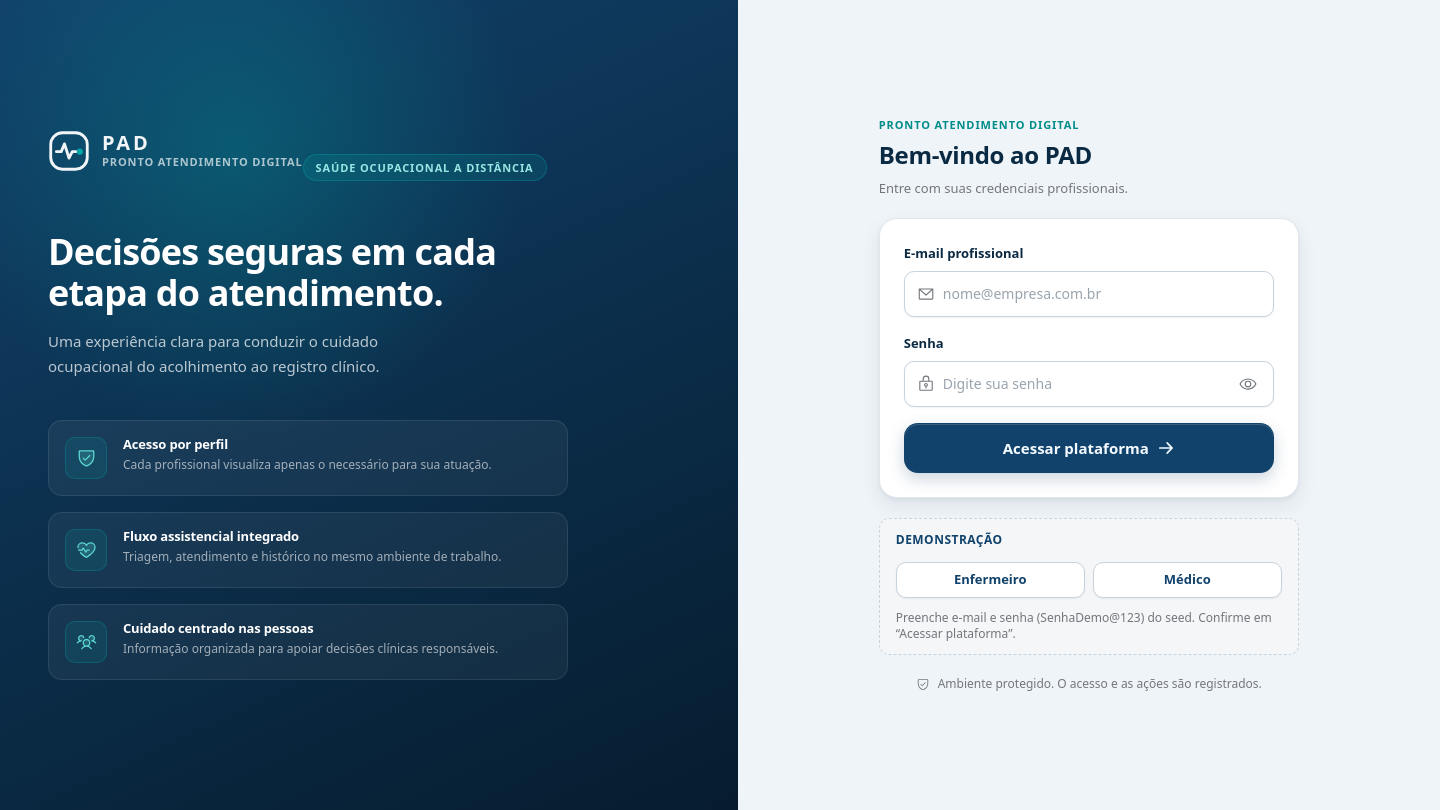
Scenario: LoginPage › preenche credenciais de demonstração para enfermeiro e médico
Click the button with aria-label "Preencher conta demo de enfermeiro".
click(990, 580)  # box x1=896 y1=562 x2=1085 y2=598
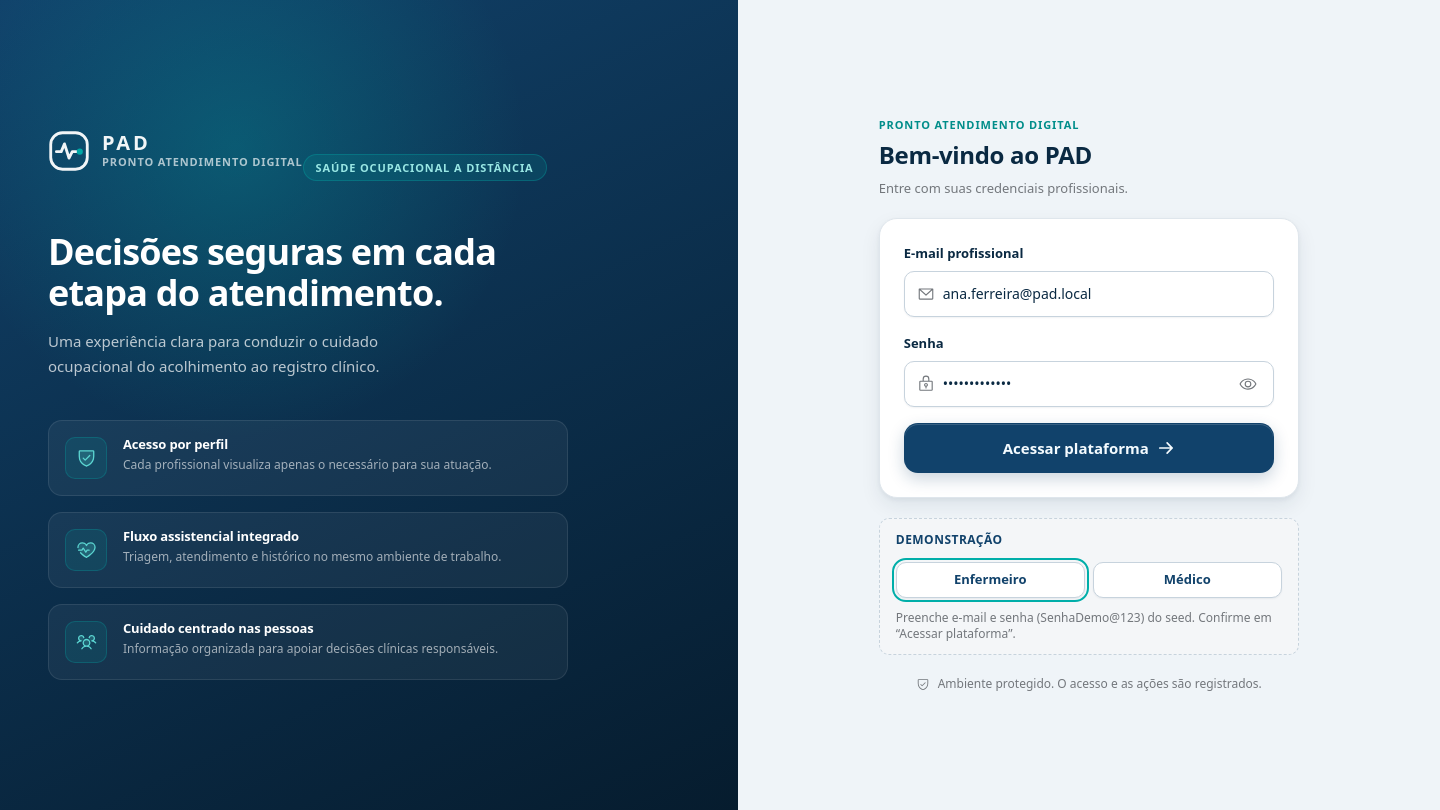
Check: the field labelled "E-mail profissional" holds "ana.ferreira@pad.local", box x1=943 y1=272 x2=1261 y2=316
Check: the password field labelled "Senha" holds "SenhaDemo@123", box x1=943 y1=362 x2=1227 y2=406
Click the button with aria-label "Preencher conta demo de médico".
click(1187, 580)  # box x1=1093 y1=562 x2=1282 y2=598
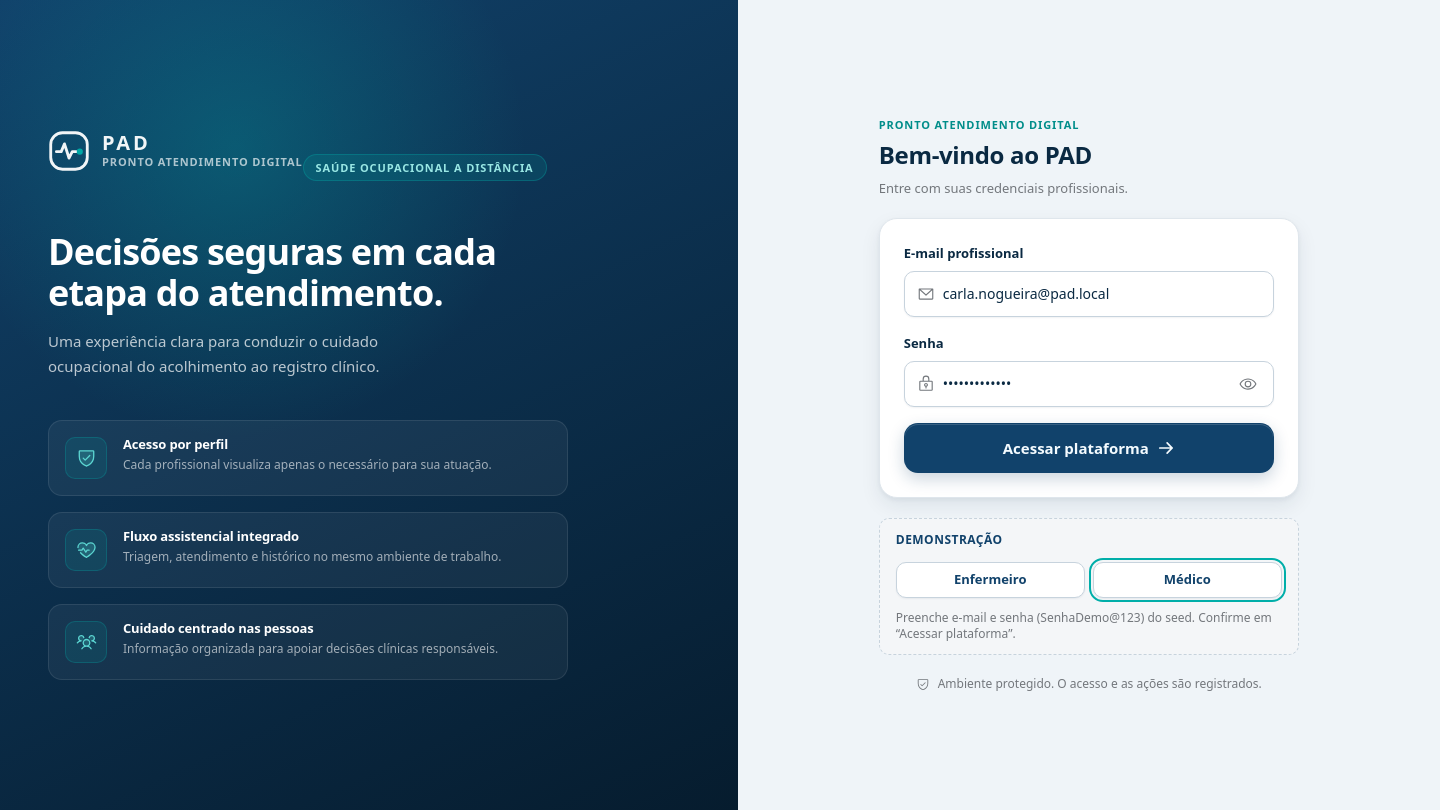
Check: the password field labelled "Senha" holds "SenhaDemo@123", box x1=943 y1=362 x2=1227 y2=406
Check: the field labelled "E-mail profissional" holds "carla.nogueira@pad.local", box x1=943 y1=272 x2=1261 y2=316
